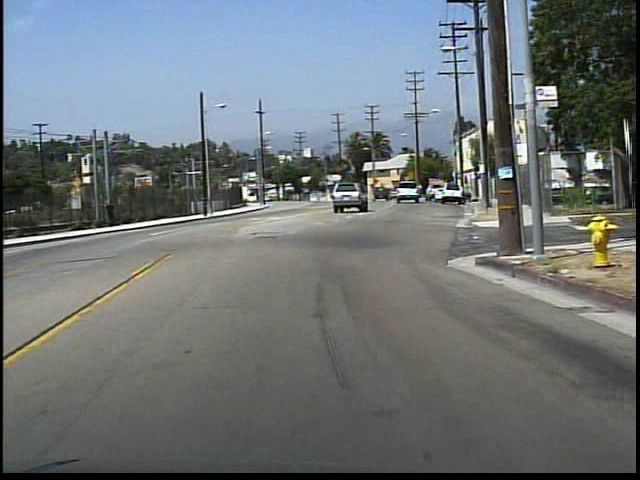person: (106, 196, 121, 229)
